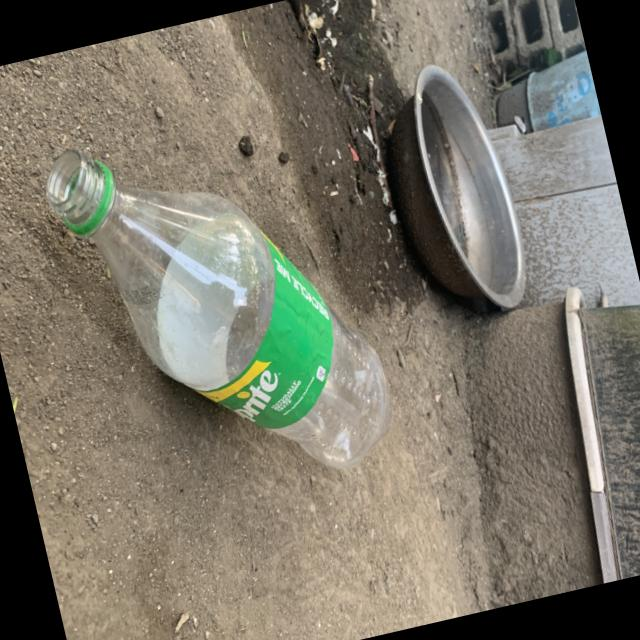Bottle: (45, 150, 390, 468)
